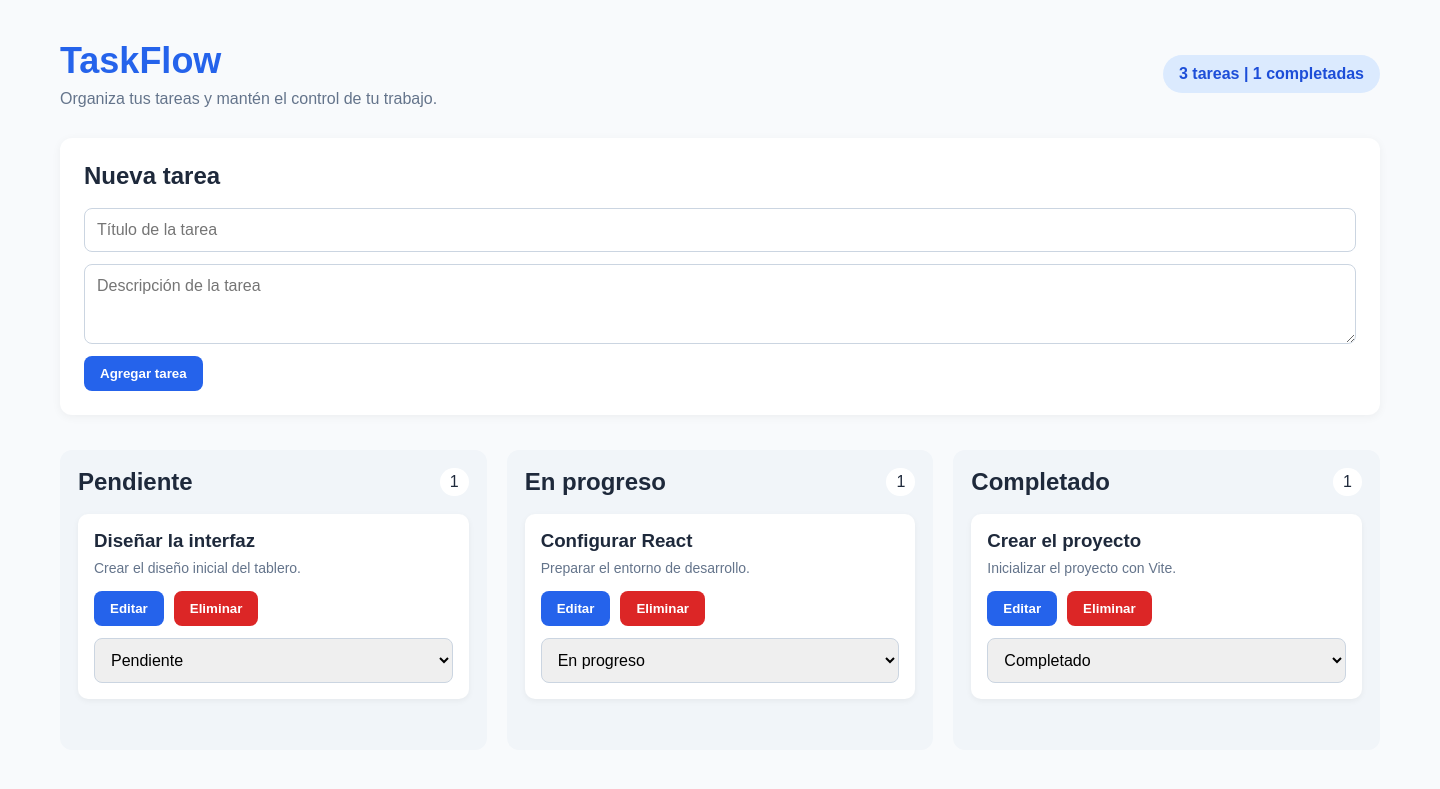
Test: Pruebas de la aplicación TaskFlow › debe permitir agregar una tarea
The image size is (1440, 789).
Type "Preparar presentación" into the field with placeholder "Título de la tarea". click: (720,230)
box: [84,208,1356,252]
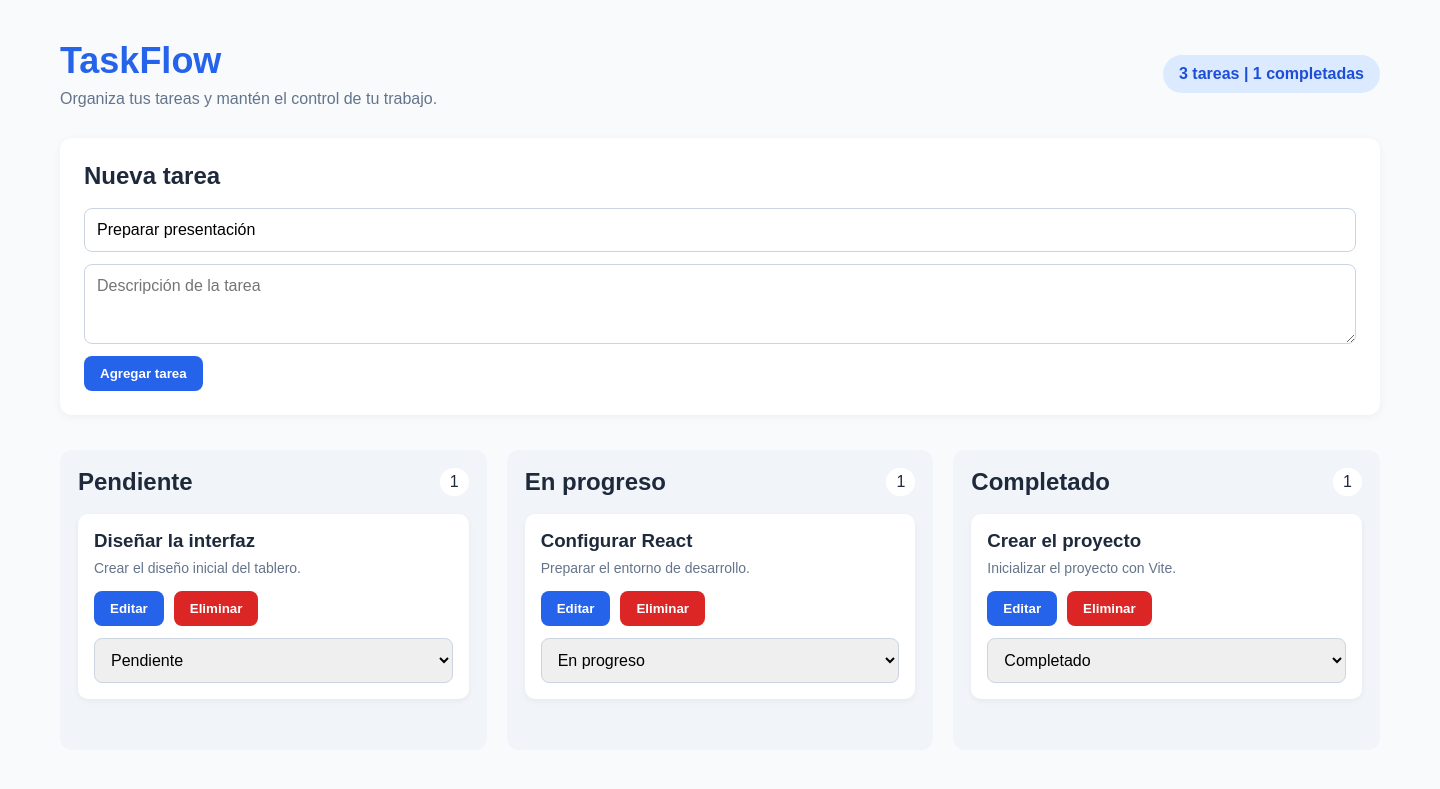
Type "Preparar las diapositivas del proyecto" into the text box with placeholder "Descripción de la tarea". click: (720,304)
box: [84,264,1356,344]
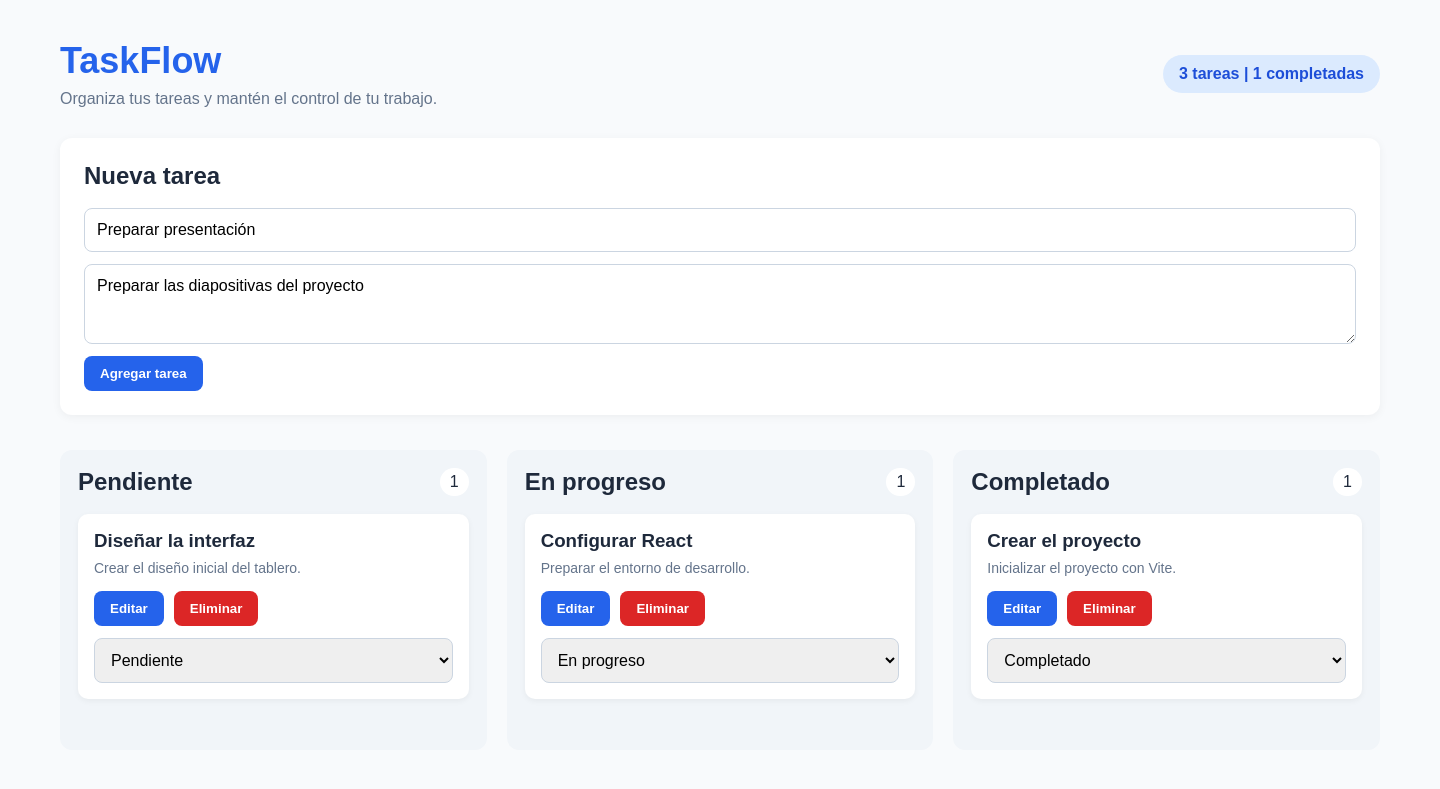
Click the button "Agregar tarea". click: (143,374)
box: [84,356,203,391]
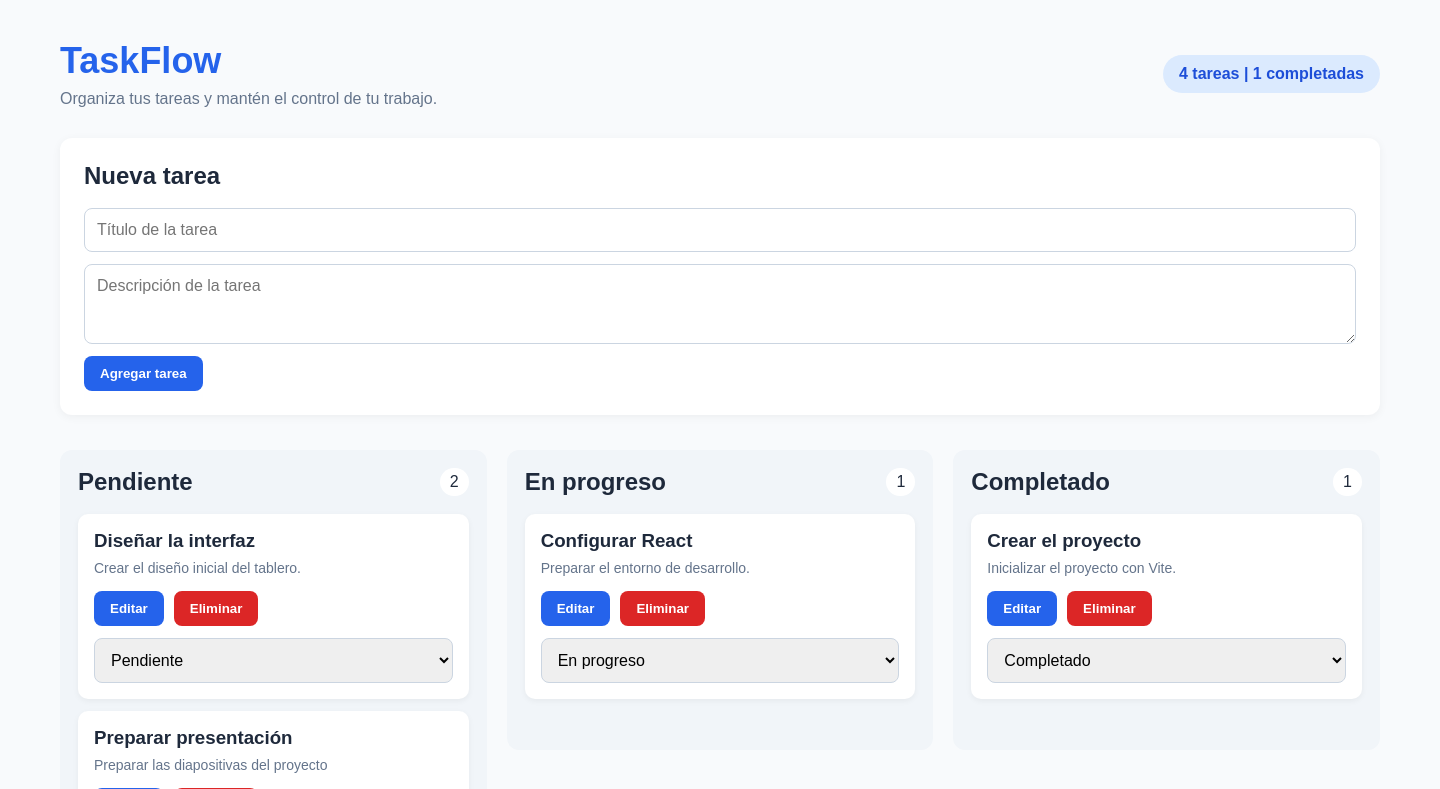
Expected: the heading "Preparar presentación" is shown, [94,727,293,748]
